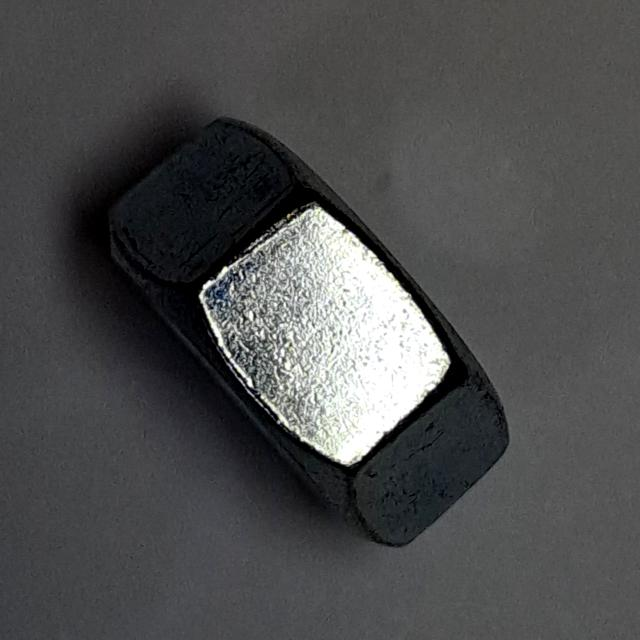Side_Excellent: (94, 109, 522, 559)
